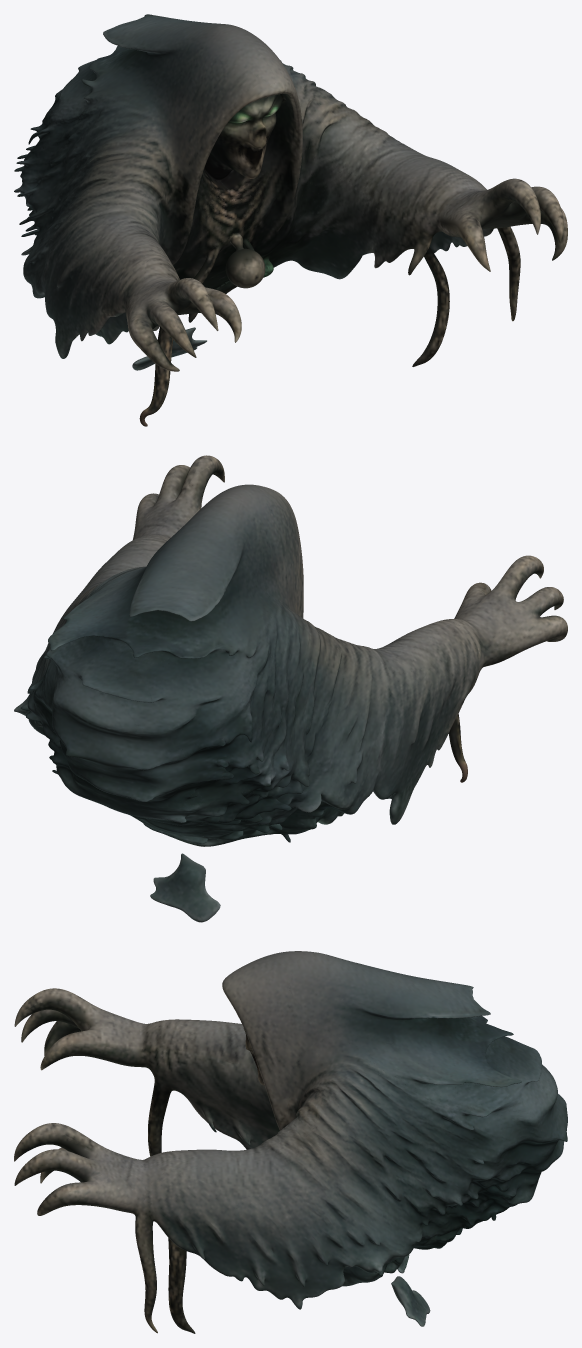
Rendered from specter.glb.
3 renders of one model, top to bottom at view 1: azimuth 30°, elevation 25°; view 2: azimuth 150°, elevation 25°; view 3: azimuth 270°, elevation 25°, orthographic.
Parts seen in each view (by area): view 1: material; view 2: material; view 3: material.
Part boxes in pixels (x1,y1,x2,y2): material: [14, 14, 567, 426]; material: [14, 455, 567, 922]; material: [14, 951, 567, 1333].
Size of the model in its own units: 0.8267 by 0.7016 by 0.9479.
Materials: 1 (1 with a texture image).
